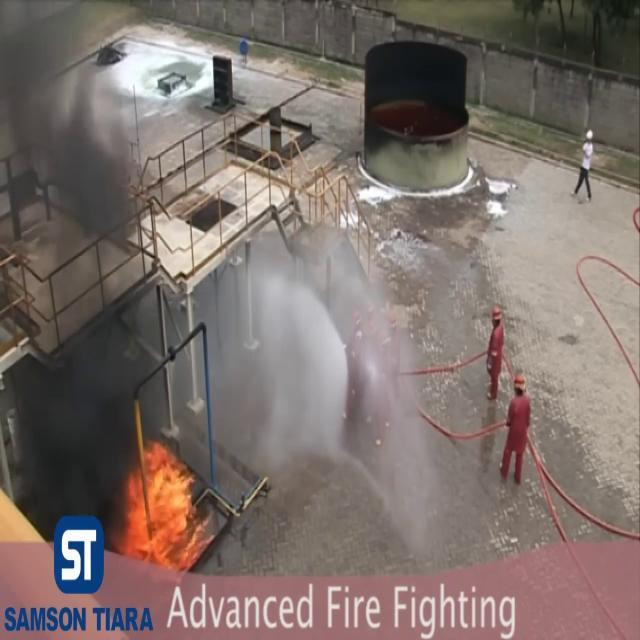Fire: (117, 409, 207, 572)
Smoke: (0, 0, 160, 457)
